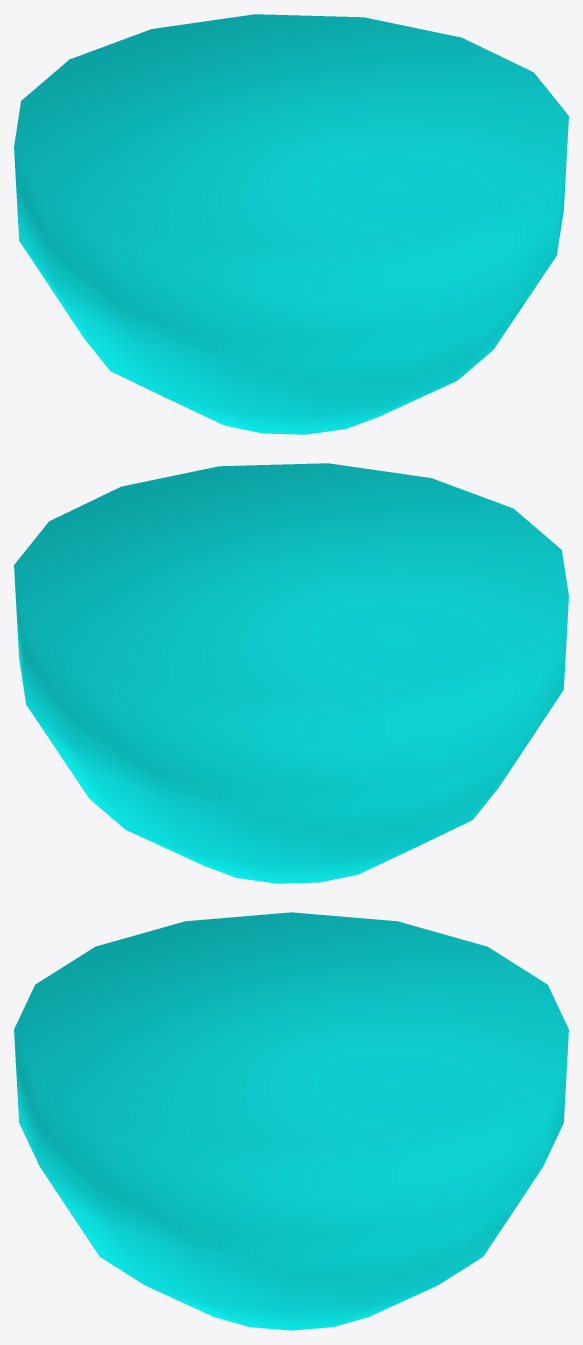
The model's file is WaterDrop_35.glb.
3 renders of one model, top to bottom at view 1: azimuth 30°, elevation 25°; view 2: azimuth 150°, elevation 25°; view 3: azimuth 270°, elevation 25°, orthographic.
Visible parts, largest first — view 1: WaterDrop_35; view 2: WaterDrop_35; view 3: WaterDrop_35.
Boxes of the visible parts, <box> form: WaterDrop_35: <box>14,14,568,434</box>; WaterDrop_35: <box>14,463,568,883</box>; WaterDrop_35: <box>14,912,568,1330</box>.
Bounding box in the file's own units: 0.5849 × 0.3113 × 0.5849.
1 material, 1 textured.
